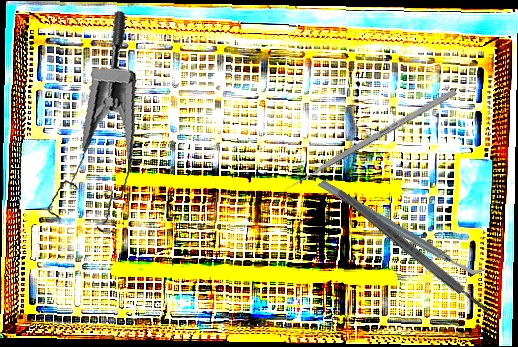Chopper: (316, 132, 487, 322)
Pusher: (278, 87, 458, 196)
Scalpel Handle: (335, 187, 492, 316)
Speculum: (20, 9, 159, 243)
